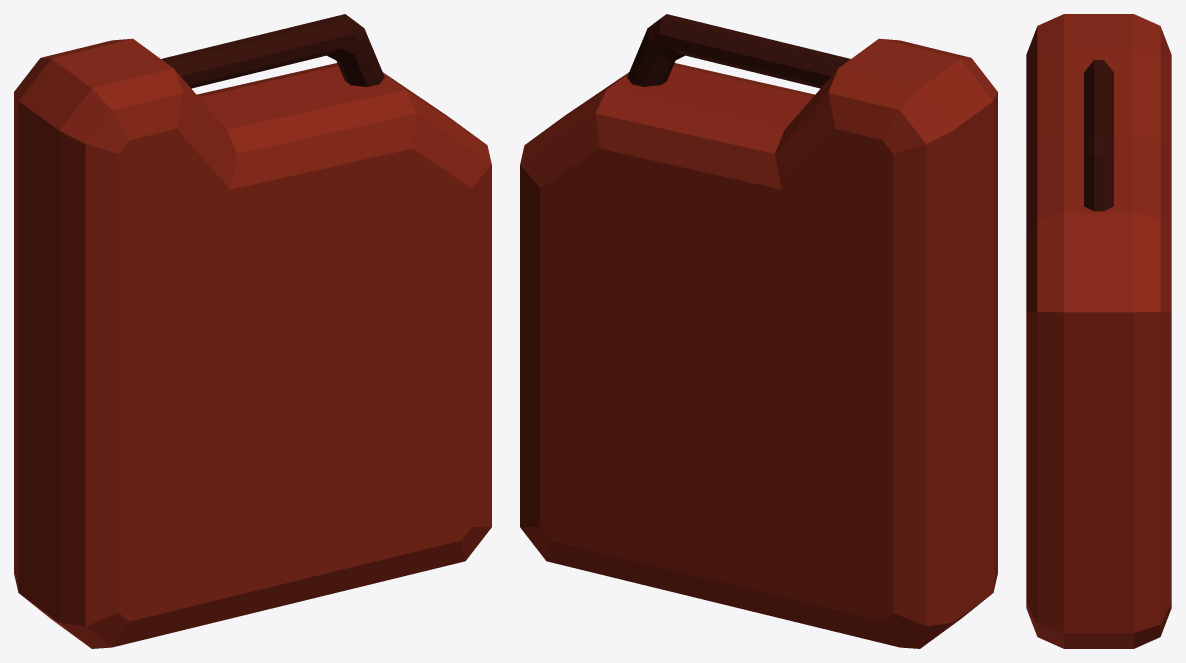
Rendered from JerryCan.fbx.
3 views of the same model, side by side, from view 1: azimuth 30°, elevation 25°; view 2: azimuth 150°, elevation 25°; view 3: azimuth 270°, elevation 25° (orthographic). The views are drawn at different scales.
Visible parts, largest first — view 1: JerryCan; view 2: JerryCan; view 3: JerryCan.
Part boxes in pixels (x1,y1,x2,y2): JerryCan: (14,14,491,648); JerryCan: (520,14,997,648); JerryCan: (1026,14,1171,648).
Bounding box in the file's own units: 0.2815 × 0.352 × 0.096.
Materials: 1 (1 with a texture image).
